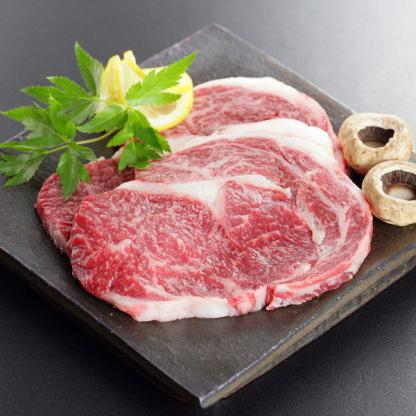beef: (76, 90, 369, 316)
